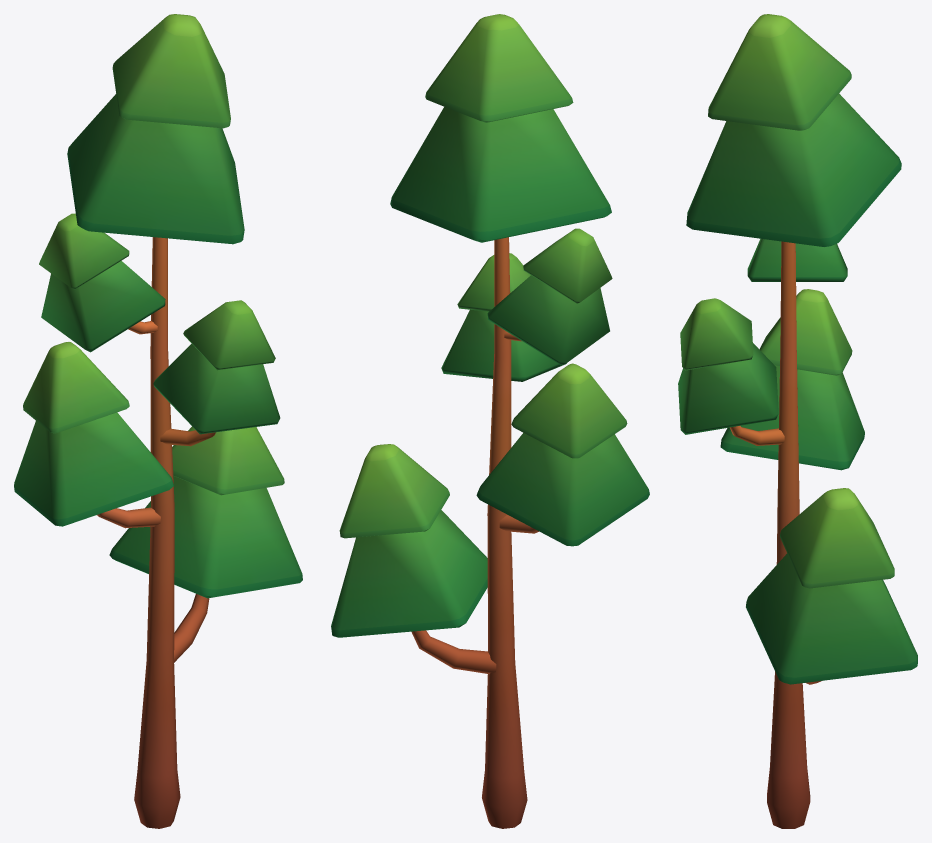
File: forest_tree_5.glb
3 renders of one model, left to right at view 1: azimuth 30°, elevation 25°; view 2: azimuth 150°, elevation 25°; view 3: azimuth 270°, elevation 25°, orthographic. The views are drawn at different scales.
Visible parts, largest first — view 1: Tree_4_C_Color1; view 2: Tree_4_C_Color1; view 3: Tree_4_C_Color1.
Boxes of the visible parts, x1=… form: Tree_4_C_Color1: x1=14, y1=14, x2=302, y2=828; Tree_4_C_Color1: x1=331, y1=14, x2=649, y2=828; Tree_4_C_Color1: x1=678, y1=14, x2=917, y2=828.
Size of the model in its own units: 3.74 by 10.77 by 2.87.
1 material, 1 textured.
